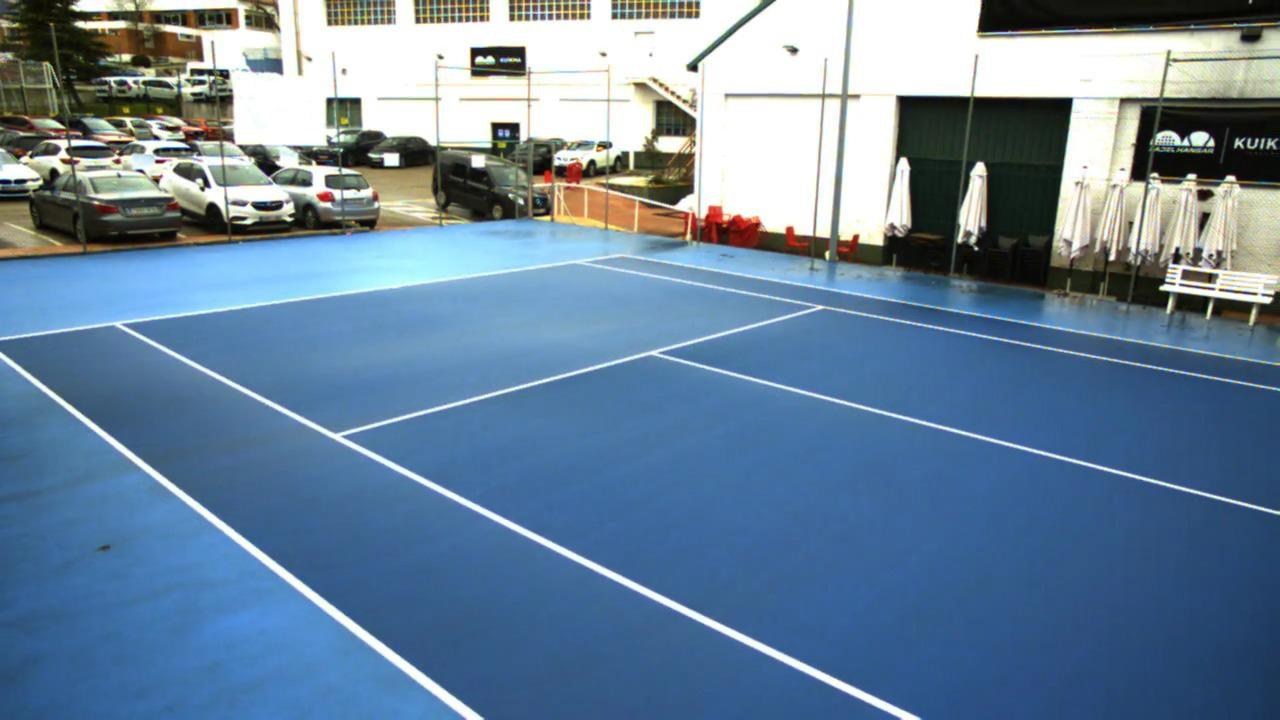cancha_tenis: (114, 261, 1279, 719)
point_f1: (103, 310, 139, 338)
point_f2: (569, 250, 599, 273)
point_fc1: (387, 282, 406, 294)
point_i1: (323, 420, 364, 448)
point_i2: (799, 294, 832, 317)
point_ic1: (637, 343, 675, 365)
